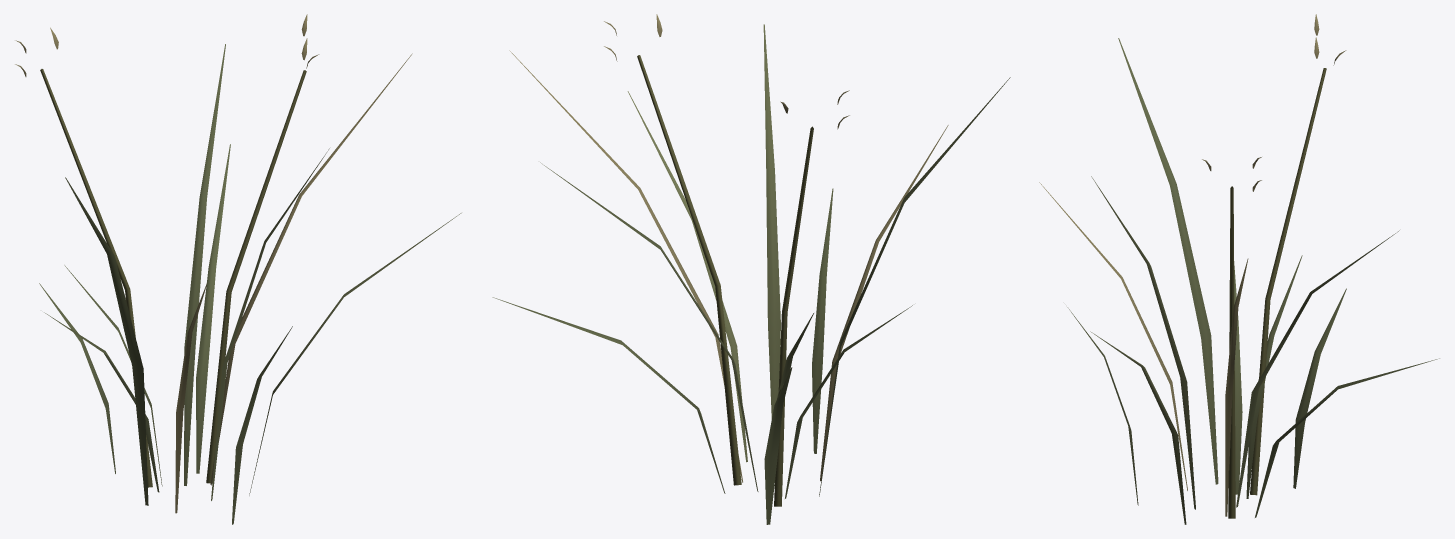
3 renders of one model, left to right at view 1: azimuth 30°, elevation 25°; view 2: azimuth 150°, elevation 25°; view 3: azimuth 270°, elevation 25°, orthographic. The views are drawn at different scales.
Parts seen in each view (by area): view 1: ground_sedge_far; view 2: ground_sedge_far; view 3: ground_sedge_far.
Boxes of the visible parts, x1,y1,x2,y2 form: ground_sedge_far: [15, 14, 461, 524]; ground_sedge_far: [492, 14, 1010, 524]; ground_sedge_far: [1039, 14, 1439, 524].
Bounding box in the file's own units: 0.87 × 0.8988 × 0.7566.
